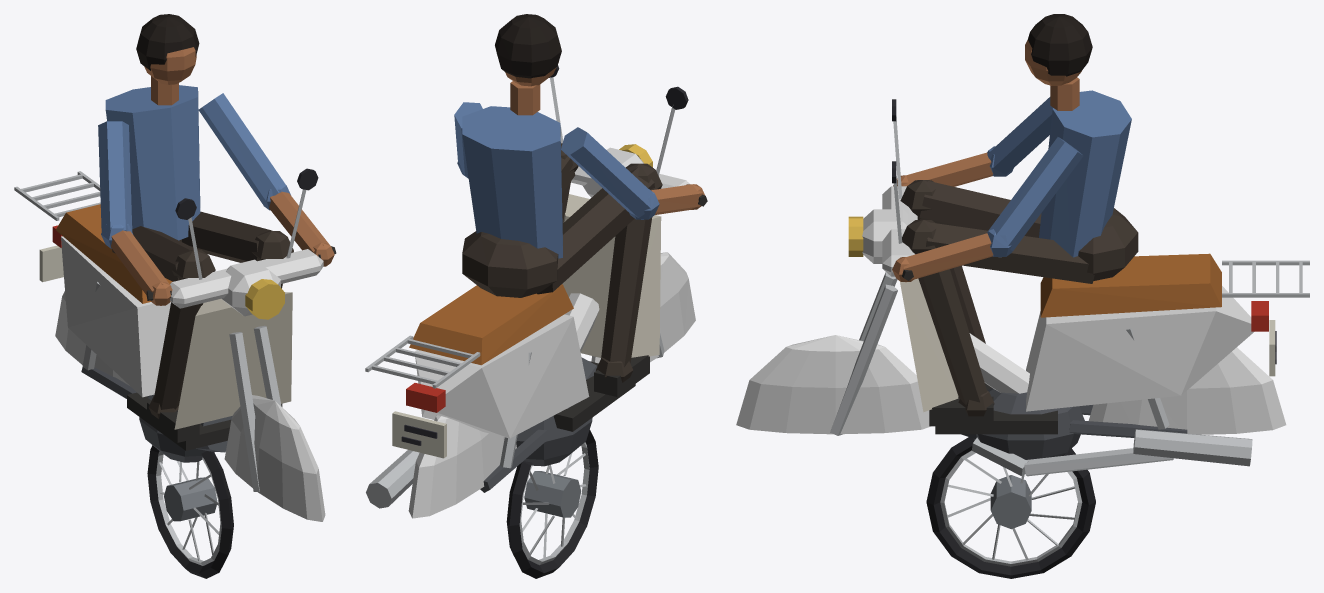
File: motorcycle.glb
3 renders of one model, left to right at view 1: azimuth 30°, elevation 25°; view 2: azimuth 150°, elevation 25°; view 3: azimuth 270°, elevation 25°, orthographic. The views are drawn at different scales.
Parts seen in each view (by area): view 1: body, paint, wheel0, lights; view 2: body, paint, wheel0, lights; view 3: body, paint, wheel0, lights.
Boxes of the visible parts, x1,y1,x2,y2 form: body: (14, 14, 336, 491); paint: (55, 236, 325, 521); wheel0: (147, 445, 233, 578); lights: (52, 225, 284, 319); body: (365, 14, 707, 508); paint: (408, 147, 695, 518); wheel0: (506, 429, 598, 578); lights: (406, 144, 652, 412); body: (830, 14, 1309, 476); paint: (736, 186, 1286, 434); wheel0: (926, 437, 1095, 578); lights: (848, 216, 1268, 331).
Bounding box in the file's own units: 0.7736 × 2.12 × 1.96.
